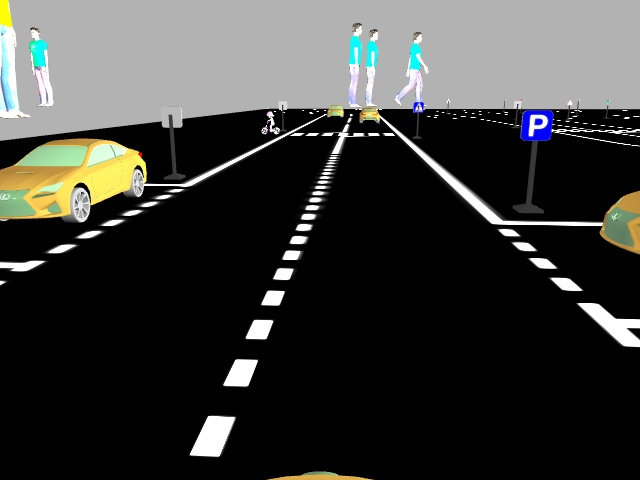Parking: (521, 105, 554, 144)
